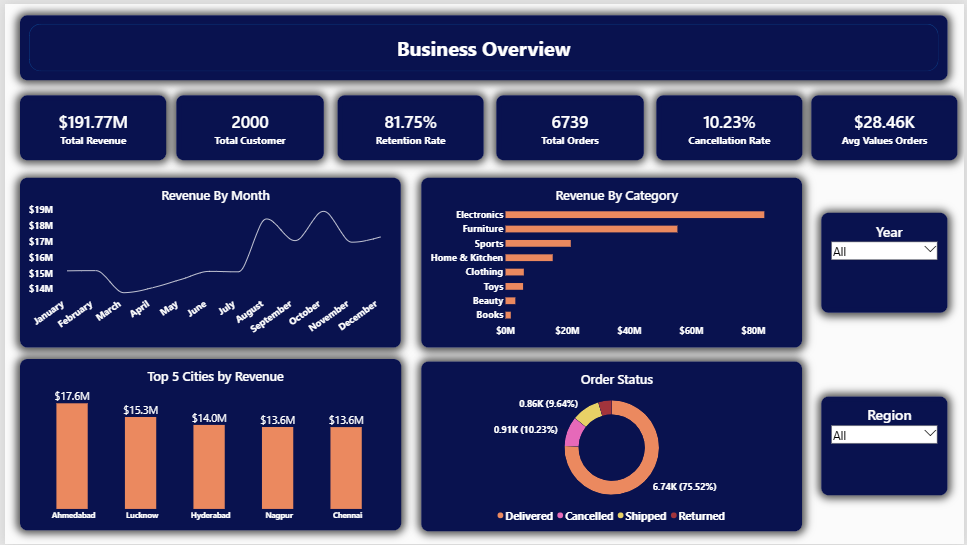

The dashboard page shown, as its layout file describes it:
{"tool":"powerbi","page":{"name":"Business Overview","canvas":[3840,2160],"ordinal":0},"visuals":[{"type":"shape","box":[60,35,3710,270],"z":0},{"type":"card","fields":{"Values":["ecommerce_orders.Total Revenue"]},"box":[62.8,357.3,589.1,255.9],"z":1000},{"type":"card","fields":{"Values":["ecommerce_orders.Total Orders"]},"box":[1965.4,367,589.1,255.9],"z":2000},{"type":"card","fields":{"Values":["ecommerce_customers.Total Customer"]},"box":[695.4,367,589.1,255.9],"z":3000},{"type":"card","fields":{"Values":["ecommerce_orders.Cancellation Rate"]},"box":[2598,367,589.1,255.9],"z":4000},{"type":"lineChart","title":"Revenue By Month","fields":{"Category":["ecommerce_orders.order_date.Variation.Date Hierarchy.Month"],"Y":["ecommerce_orders.Total Revenue"]},"box":[60.6,696.9,1523.6,679.5],"z":5000},{"type":"donutChart","title":"Order Status","fields":{"Category":["ecommerce_orders.order_status"],"Y":["CountNonNull(ecommerce_orders.order_id)"]},"box":[1666.4,1428.3,1523.6,679.5],"z":6000},{"type":"clusteredBarChart","title":"Revenue By Category","fields":{"Category":["ecommerce_orders.category"],"Y":["ecommerce_orders.Total Revenue"]},"box":[1666.4,696.9,1523.6,679.5],"z":7000},{"type":"slicer","title":"Year ","fields":{"Values":["ecommerce_orders.order_date.Variation.Date Hierarchy.Year"]},"box":[3263.5,450.1,506.4,588.6],"z":8000},{"type":"slicer","title":"Region ","fields":{"Values":["ecommerce_orders.region"]},"box":[3263.5,1224.9,506.4,774.8],"z":9000},{"type":"card","fields":{"Values":["ecommerce_orders.Repeat Purchase Rate"]},"box":[1332.8,367,589.1,255.9],"z":10000},{"type":"columnChart","title":"Top 5 Cities by Revenue","fields":{"Category":["ecommerce_customers.city"],"Y":["ecommerce_orders.Total Revenue"]},"box":[61.2,1420.4,1524.5,685.7],"z":11000}]}

Visuals, with their boxes in screenshot pixels (x1, y1, x2, y2), scaled from the page's 3840x2160 canvas onto the 967x545 screenshot:
shape: 15,9,949,77
card - ecommerce_orders.Total Revenue: 16,90,164,155
card - ecommerce_orders.Total Orders: 495,93,643,157
card - ecommerce_customers.Total Customer: 175,93,323,157
card - ecommerce_orders.Cancellation Rate: 654,93,803,157
"Revenue By Month" lineChart: 15,176,399,347
"Order Status" donutChart: 420,360,803,532
"Revenue By Category" clusteredBarChart: 420,176,803,347
"Year " slicer: 822,114,949,262
"Region " slicer: 822,309,949,505
card - ecommerce_orders.Repeat Purchase Rate: 336,93,484,157
"Top 5 Cities by Revenue" columnChart: 15,358,399,531
